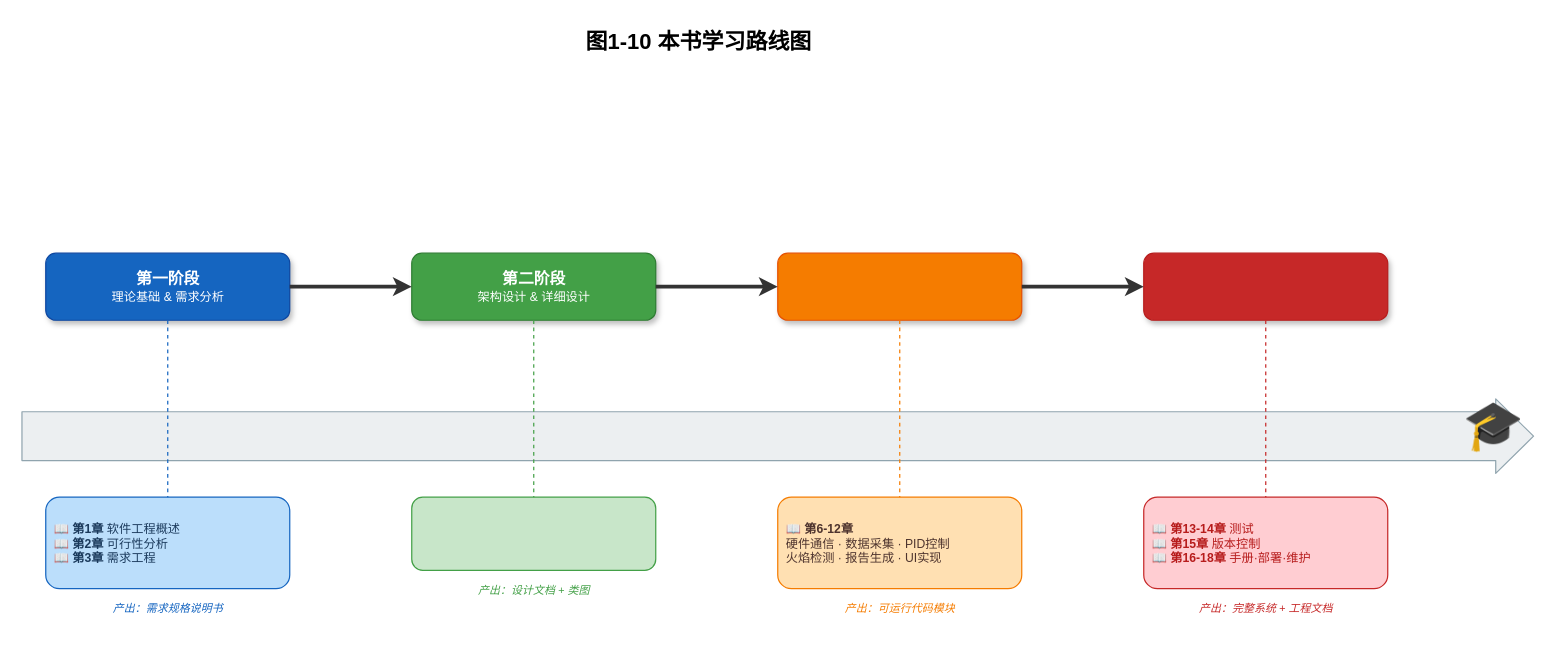
Image size: 1554x645. Some labels were removed from this diagram. Each missing label, with the centre of its shape:
"第三阶段 核心技术 & 系统实现" goes at (900,288).
"第四阶段 测试 · 部署 · 维护" goes at (1266,288).
"📖 第4章 架构设计与技术选型 📖 第5章 详细设计" goes at (533,533).
